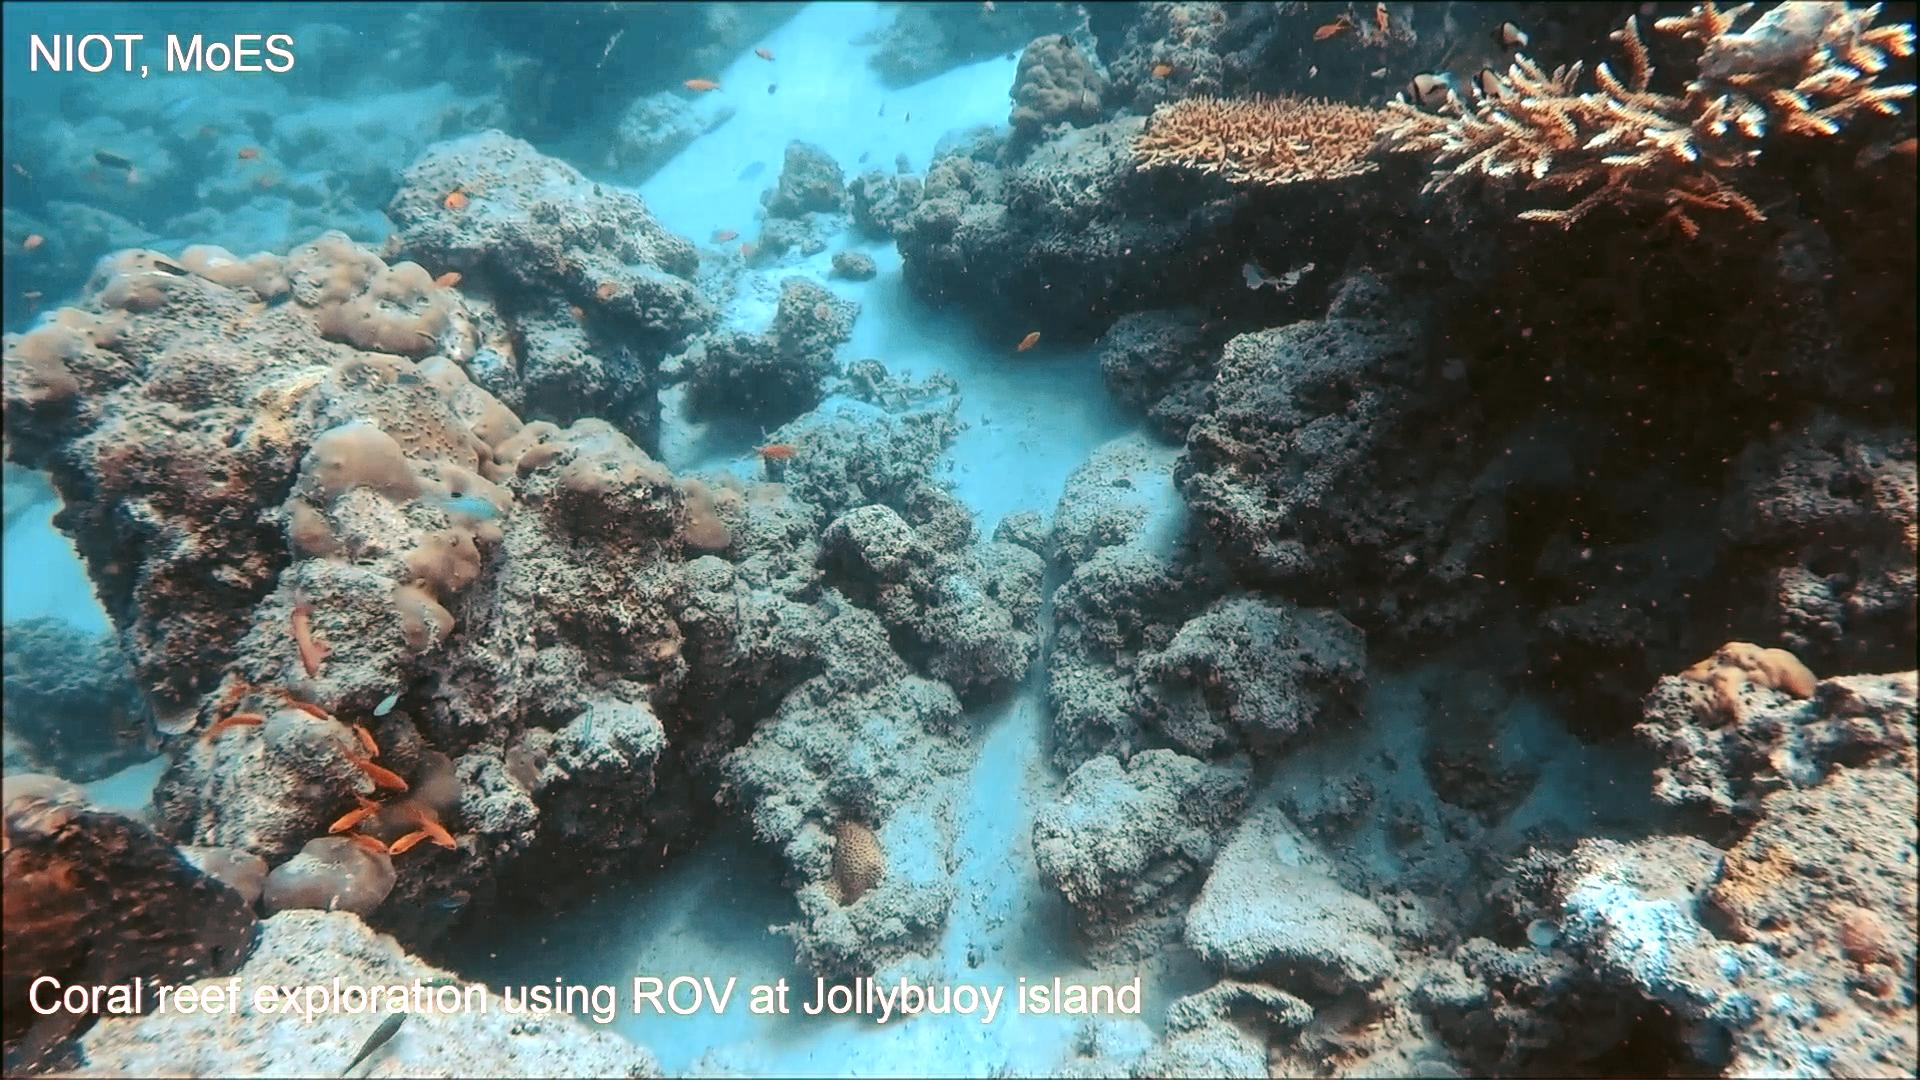Porites-Porites pukoensis: (251, 223, 571, 659)
